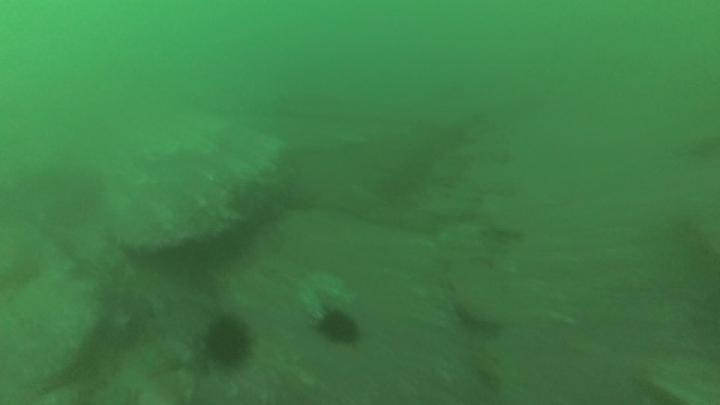echinus: (201, 313, 255, 369), (315, 306, 363, 348)
